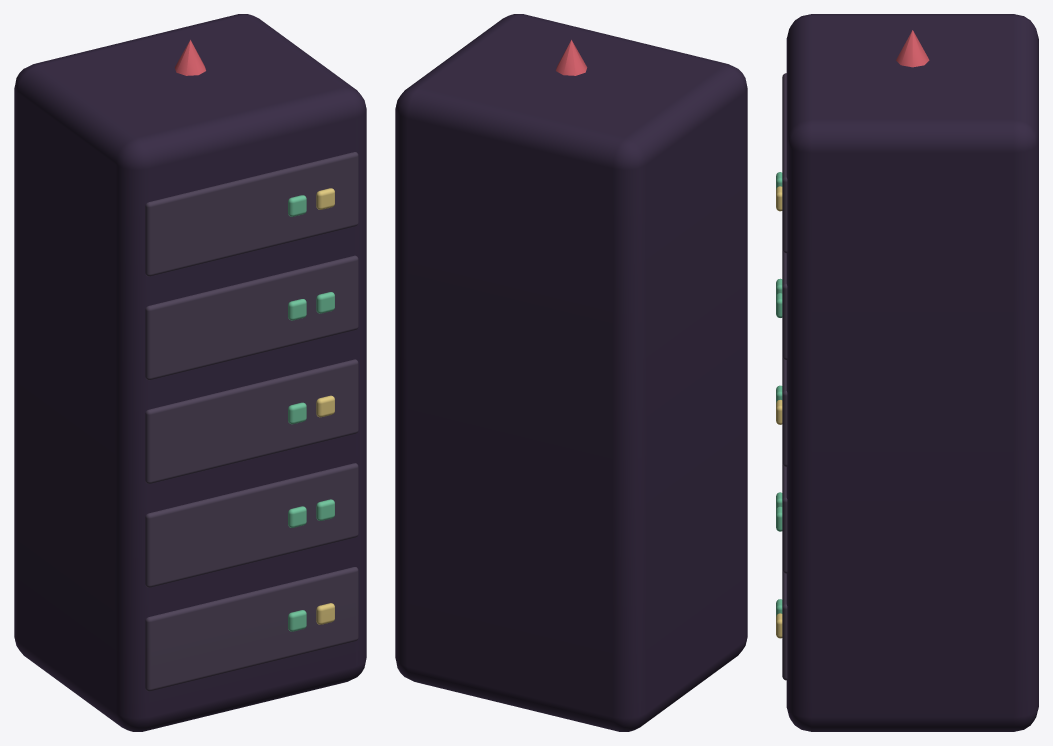
Rendered from server-rack.glb.
3 views of the same model, side by side, from view 1: azimuth 30°, elevation 25°; view 2: azimuth 150°, elevation 25°; view 3: azimuth 270°, elevation 25° (orthographic). The views are drawn at different scales.
Visible parts, largest first — view 1: serverRack; view 2: serverRack; view 3: serverRack.
Boxes of the visible parts, x1=… form: serverRack: x1=14, y1=14, x2=366, y2=731; serverRack: x1=395, y1=14, x2=747, y2=731; serverRack: x1=776, y1=14, x2=1038, y2=731.
Size of the model in its own units: 0.7 by 1.7 by 0.6249.
